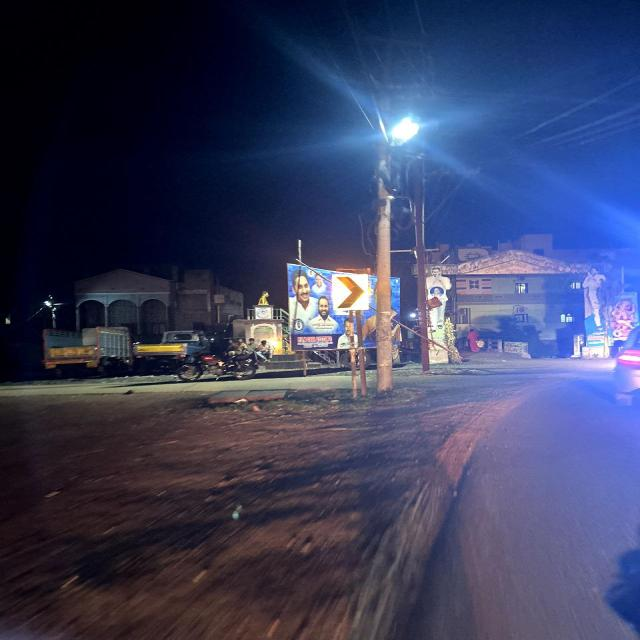chevron_right: (328, 270, 376, 314)
